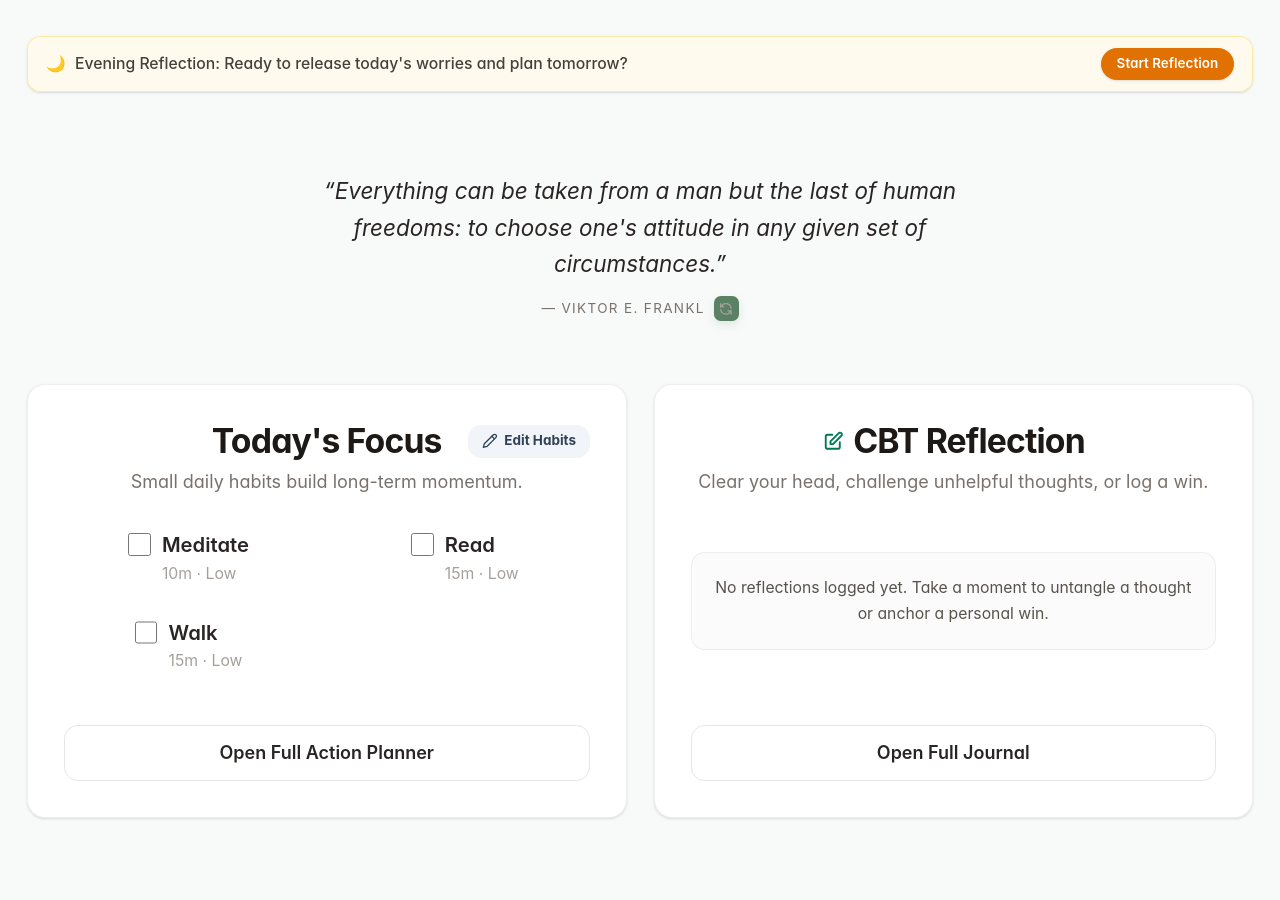
Test: Home 0-10 Rating Scale & Resilience Milestones › completes habit, presents 0-10 pips, selects 7, persists Completed (Rating: 7/10), and re-edits
Expected: the text "Meditate" is shown, [162,529,249,560]
// Check Meditate
Click the checkbox labelled "Meditate 10m · Low" at [139, 545], box [128,533,151,556]
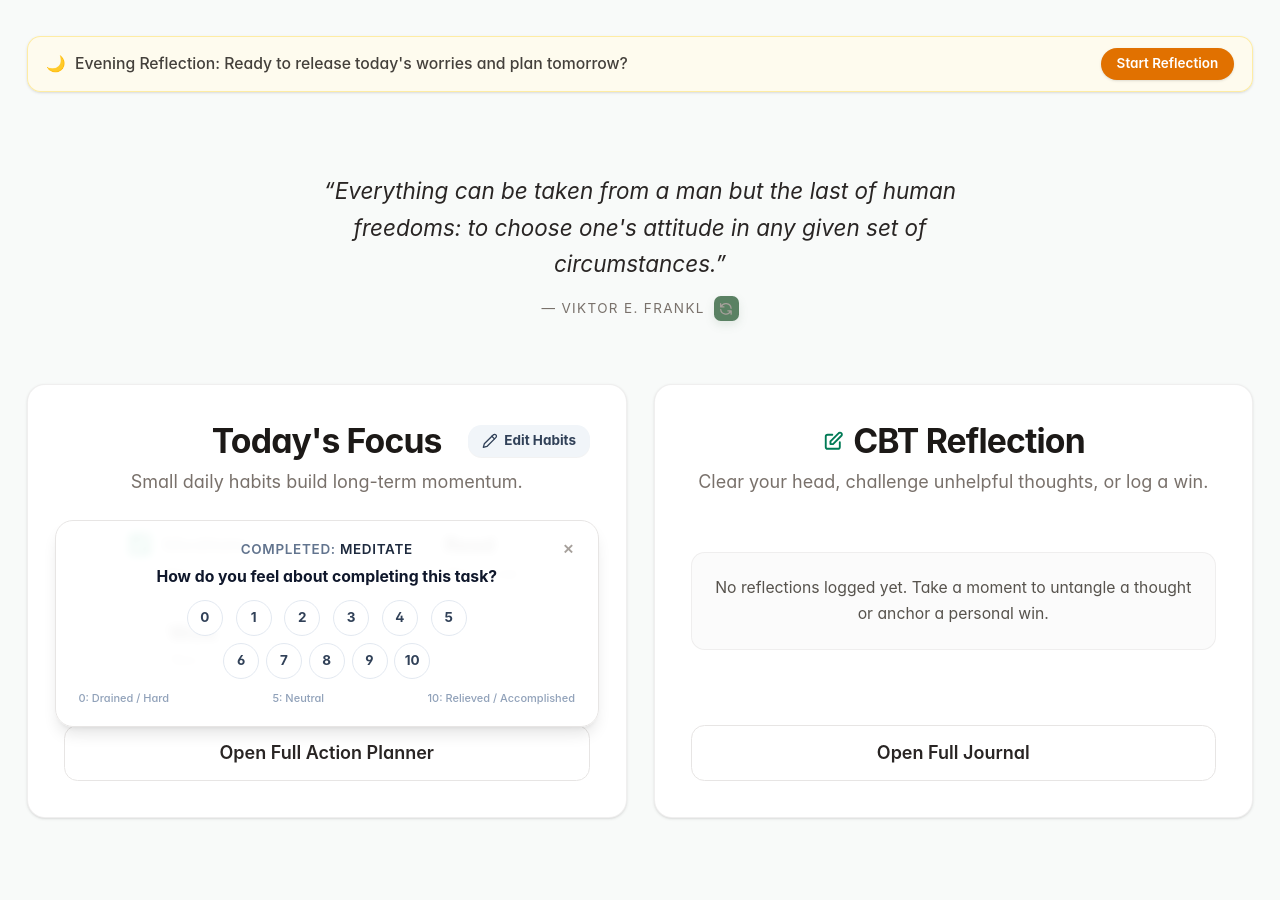
Result: the button "7" is shown
Result: the button "10" is shown at [394,642,430,678]
Result: the text "0: Drained / Hard" is shown at [78,690,169,708]
// Select rating 7
Click the button "7" at [284, 660], box [266,642,302,678]
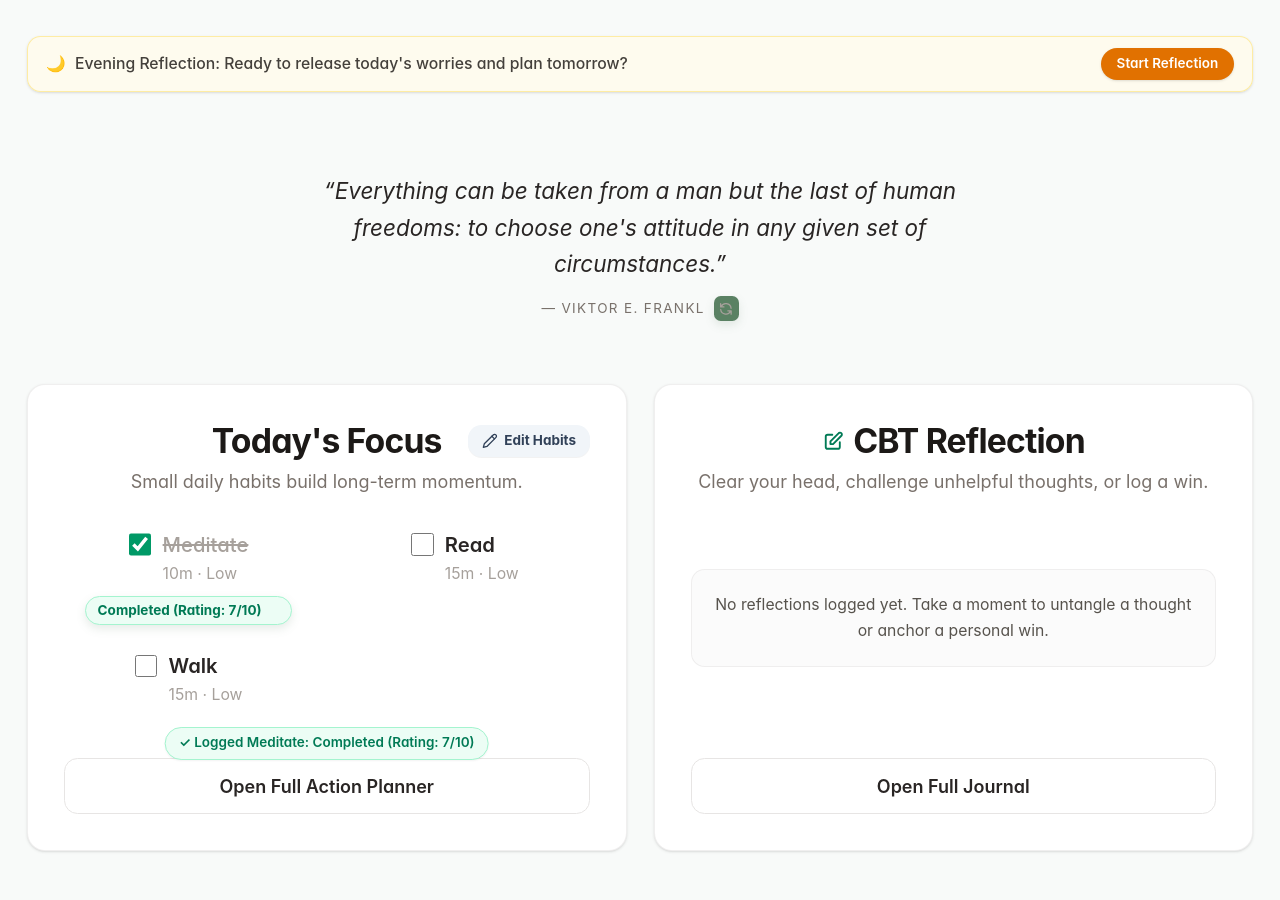
Result: the text "Completed (Rating: 7/10)" is shown at [98,602,262,620]
// Click badge to re-edit
Click the button "Completed (Rating: 7/10)" at [189, 611], box [85,596,292,625]
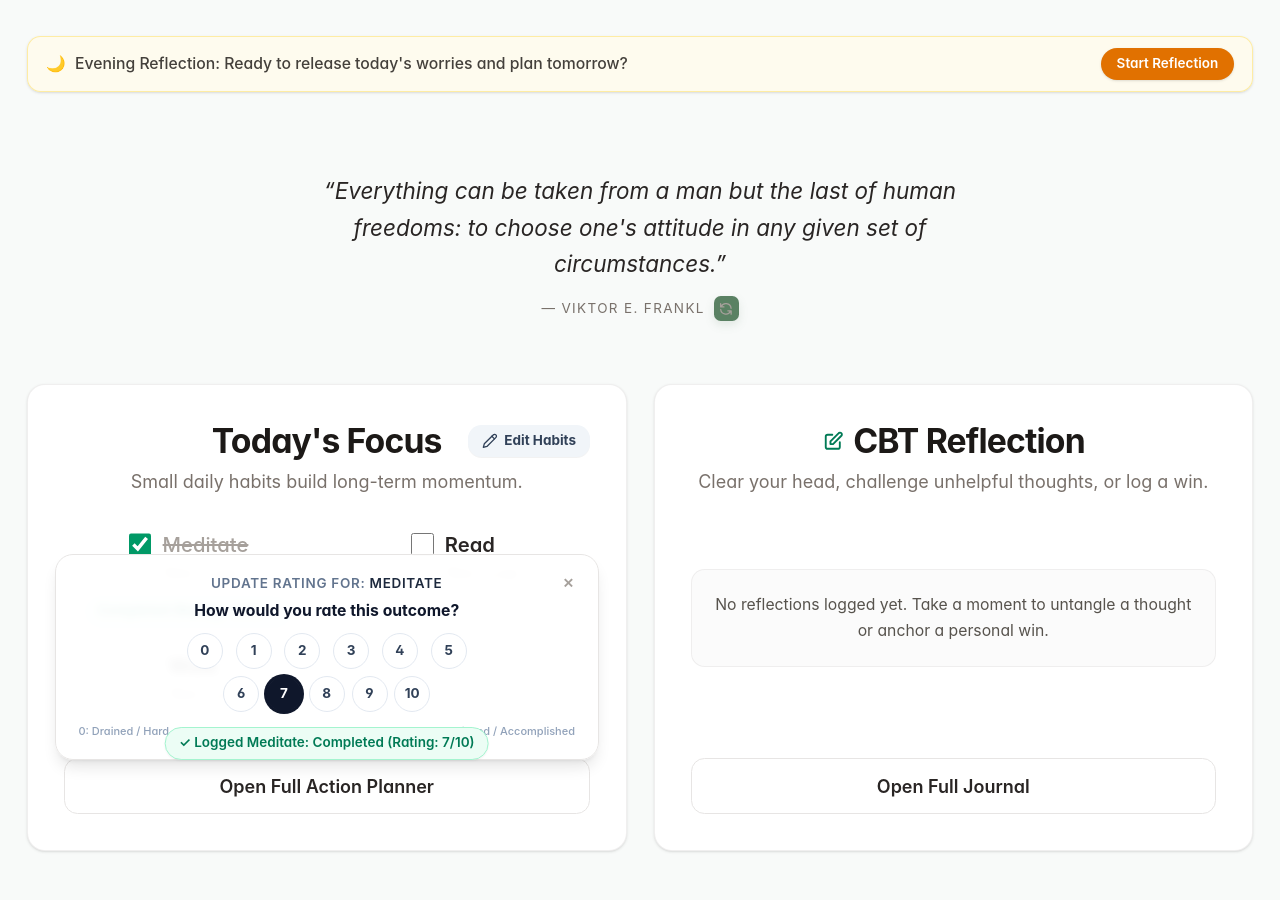
Result: the text "Update rating for: Meditate" is shown at [211,575,442,593]
Result: the text "How would you rate this outcome?" is shown at [194,600,459,620]
// Change rating to 10
Click the button "10" at [412, 694], box [394,676,430,712]
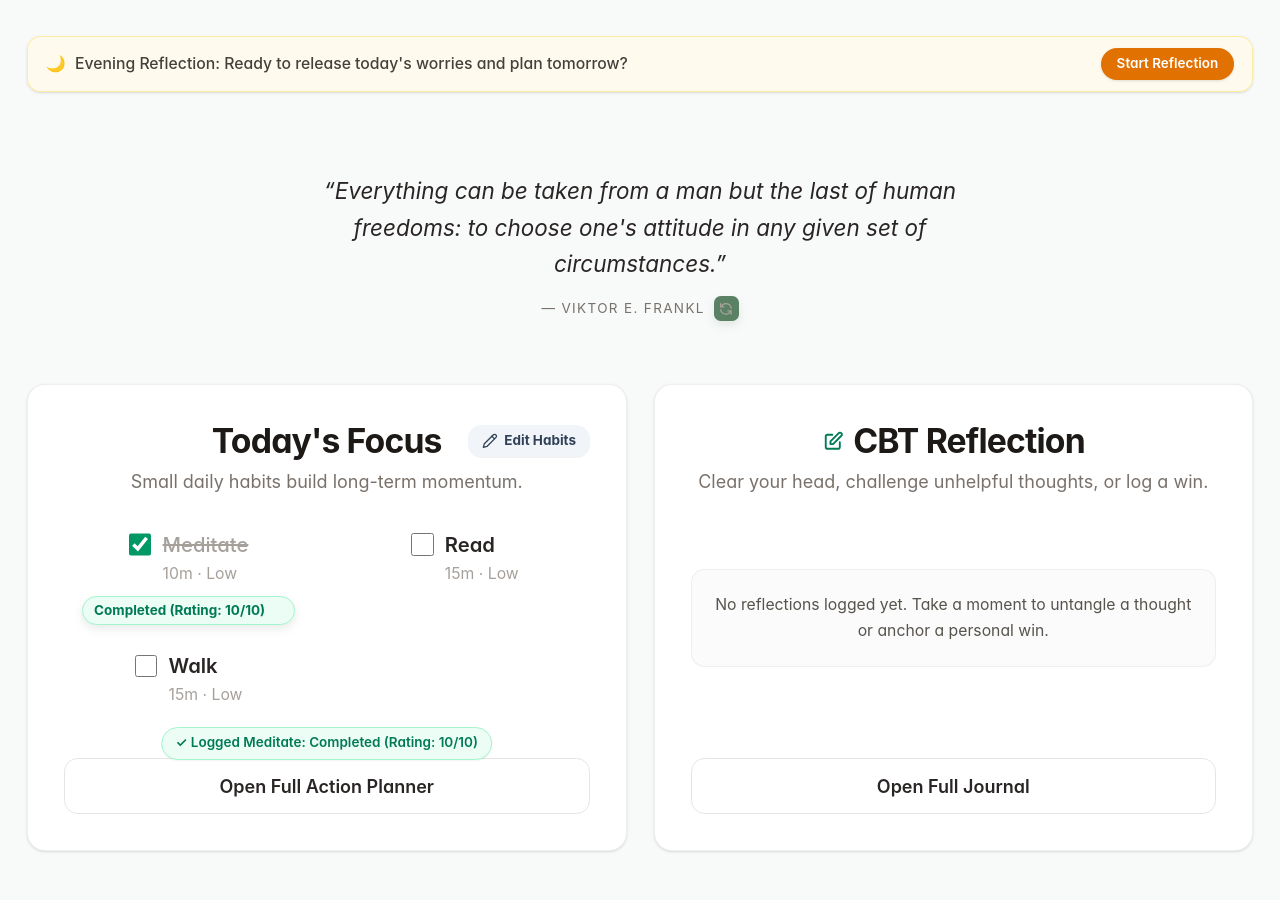
Result: the text "Completed (Rating: 10/10)" is shown at [94,602,265,620]
